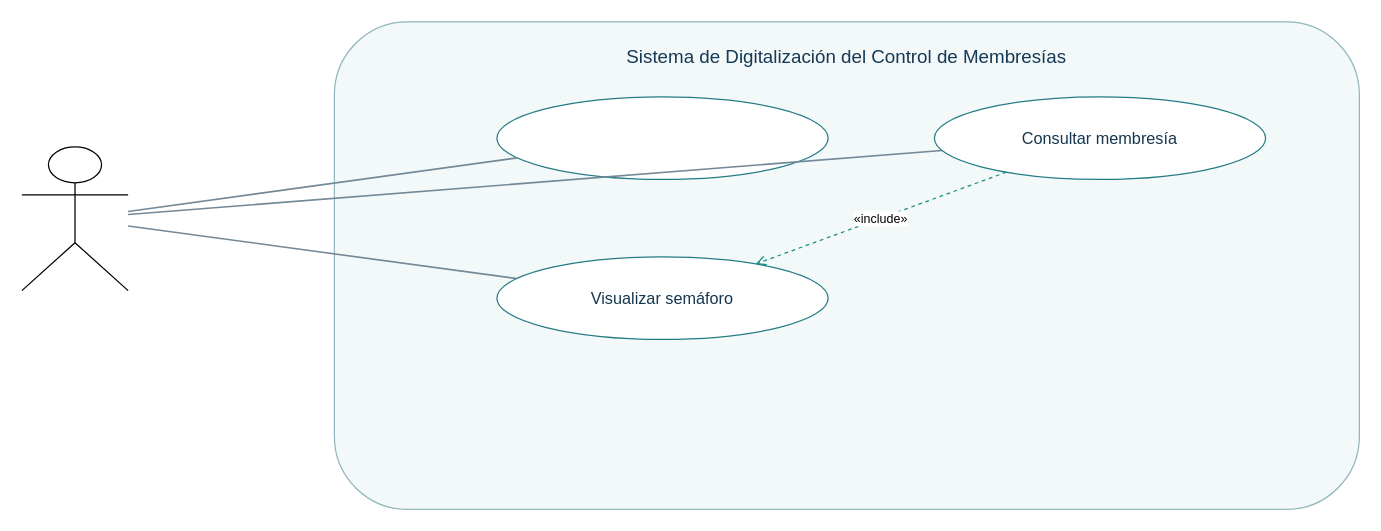
This 1381x531 diagram has some shape labels left out. Each missing label, with the centre of its shape:
"Buscar cliente" belongs at point 662,137.
"Recepcionista" belongs at point 74,218.
